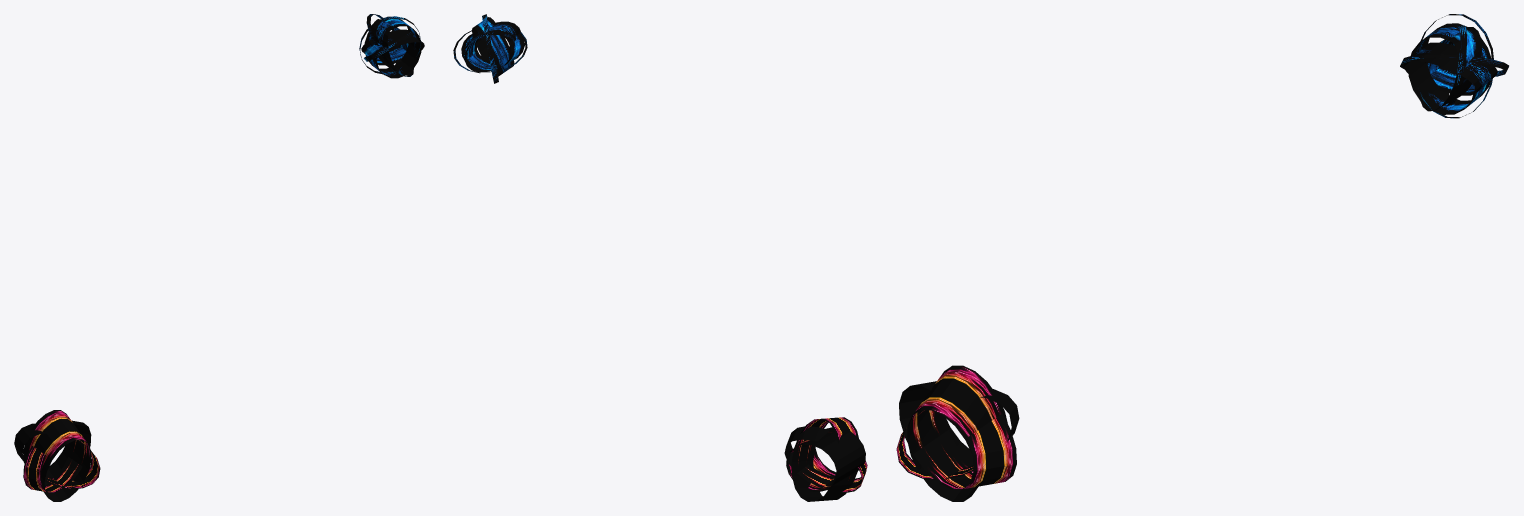
The model's file is tx_cj_yuansufazhen.obj.
The picture shows the model from 3 angles, left to right: view 1: azimuth 30°, elevation 25°; view 2: azimuth 150°, elevation 25°; view 3: azimuth 330°, elevation 25°; orthographic projection. The views are drawn at different scales.
Parts seen in each view (by area): view 1: Sphere01, Sphere02, Sphere03, Sphere02#2, Sphere01#2, Sphere03#2; view 2: Sphere03, Sphere01, Sphere02, Sphere02#2, Sphere01#2, Sphere03#2; view 3: Sphere01, Sphere03, Sphere03#2, Sphere01#2, Sphere02, Sphere02#2.
Part boxes in pixels (bbox=[...]): Sphere01: bbox=[23, 410, 91, 501]; Sphere02: bbox=[23, 420, 91, 492]; Sphere03: bbox=[14, 423, 100, 489]; Sphere02#2: bbox=[364, 16, 421, 78]; Sphere01#2: bbox=[361, 29, 424, 65]; Sphere03#2: bbox=[372, 19, 412, 75]; Sphere03: bbox=[786, 427, 865, 491]; Sphere01: bbox=[791, 417, 858, 501]; Sphere02: bbox=[784, 426, 867, 492]; Sphere02#2: bbox=[472, 17, 514, 76]; Sphere01#2: bbox=[461, 22, 524, 71]; Sphere03#2: bbox=[464, 21, 520, 72]; Sphere01: bbox=[907, 365, 1007, 501]; Sphere03: bbox=[899, 381, 1016, 489]; Sphere03#2: bbox=[1408, 23, 1491, 114]; Sphere01#2: bbox=[1403, 42, 1497, 95]; Sphere02: bbox=[896, 389, 1019, 479]; Sphere02#2: bbox=[1421, 27, 1481, 111].
Size of the model in its own units: 251 by 240 by 39.44.
3 materials, 3 textured.
